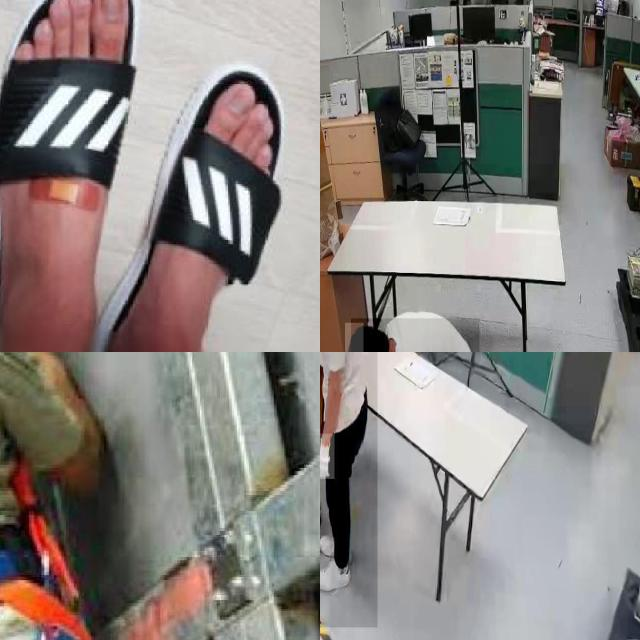Harness: (0, 352, 104, 640)
Sandals: (98, 33, 320, 352), (0, 0, 163, 352)
hand_glove: (320, 434, 334, 480)
head_nohelmet: (345, 323, 364, 352)
person: (320, 352, 378, 628)
shoes: (320, 555, 351, 593)
